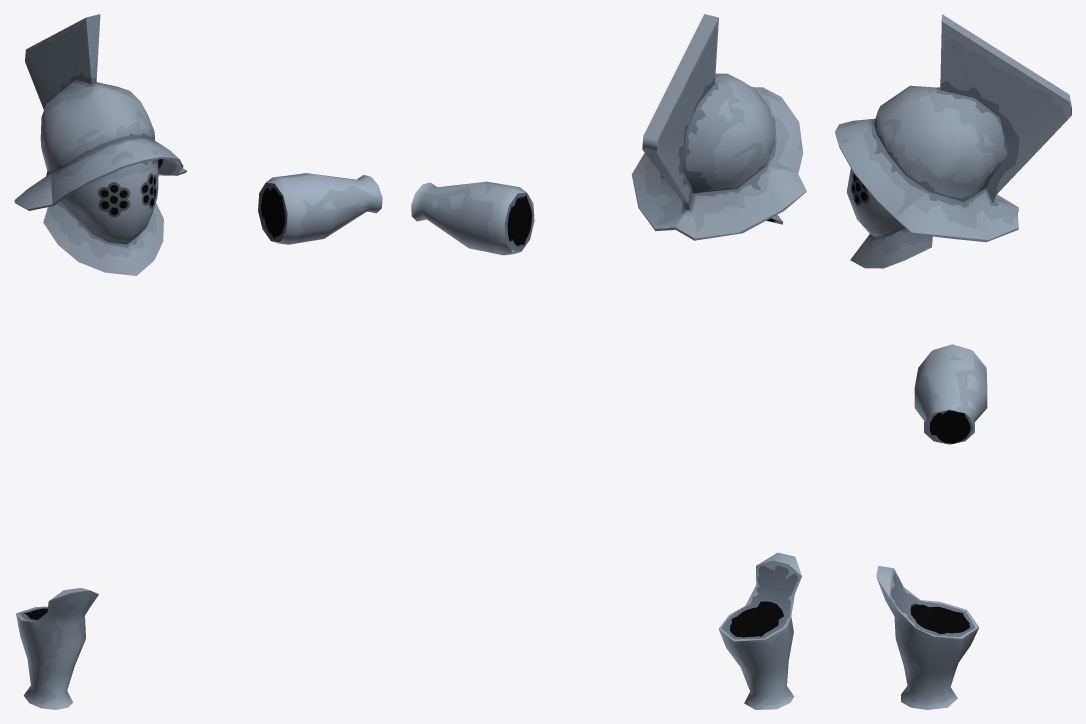
Rendered from BossArmor.fbx.
3 renders of one model, left to right at view 1: azimuth 30°, elevation 25°; view 2: azimuth 150°, elevation 25°; view 3: azimuth 270°, elevation 25°, orthographic. The views are drawn at different scales.
Visible parts, largest first — view 1: Helmet2, pCylinder2, pCylinder1; view 2: Helmet2, pCylinder1, pCylinder2; view 3: Helmet2, pCylinder1, pCylinder2.
Part boxes in pixels (bbox=[...]): Helmet2: bbox=[14, 14, 186, 275]; pCylinder2: bbox=[258, 173, 382, 244]; pCylinder1: bbox=[16, 588, 98, 709]; Helmet2: bbox=[631, 14, 806, 240]; pCylinder1: bbox=[718, 552, 801, 709]; pCylinder2: bbox=[411, 181, 534, 255]; Helmet2: bbox=[835, 14, 1071, 268]; pCylinder1: bbox=[876, 566, 979, 709]; pCylinder2: bbox=[914, 344, 987, 444].
Size of the model in its own units: 1.76 by 3.11 by 0.9438.
